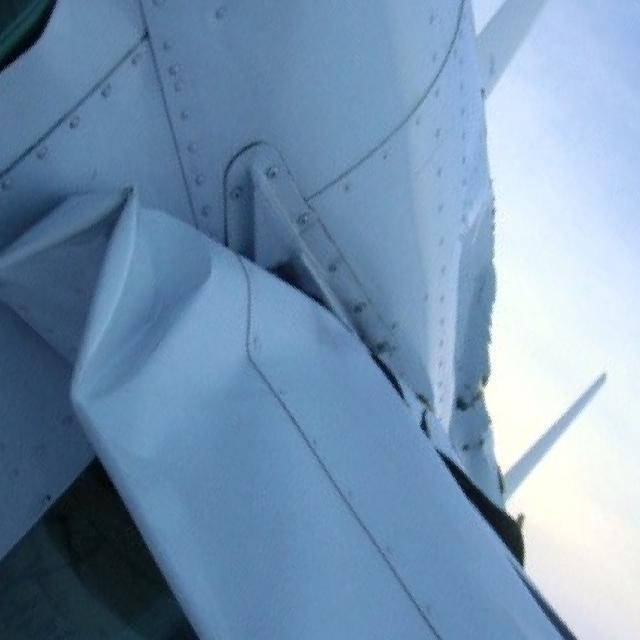dent: (1, 185, 216, 405)
